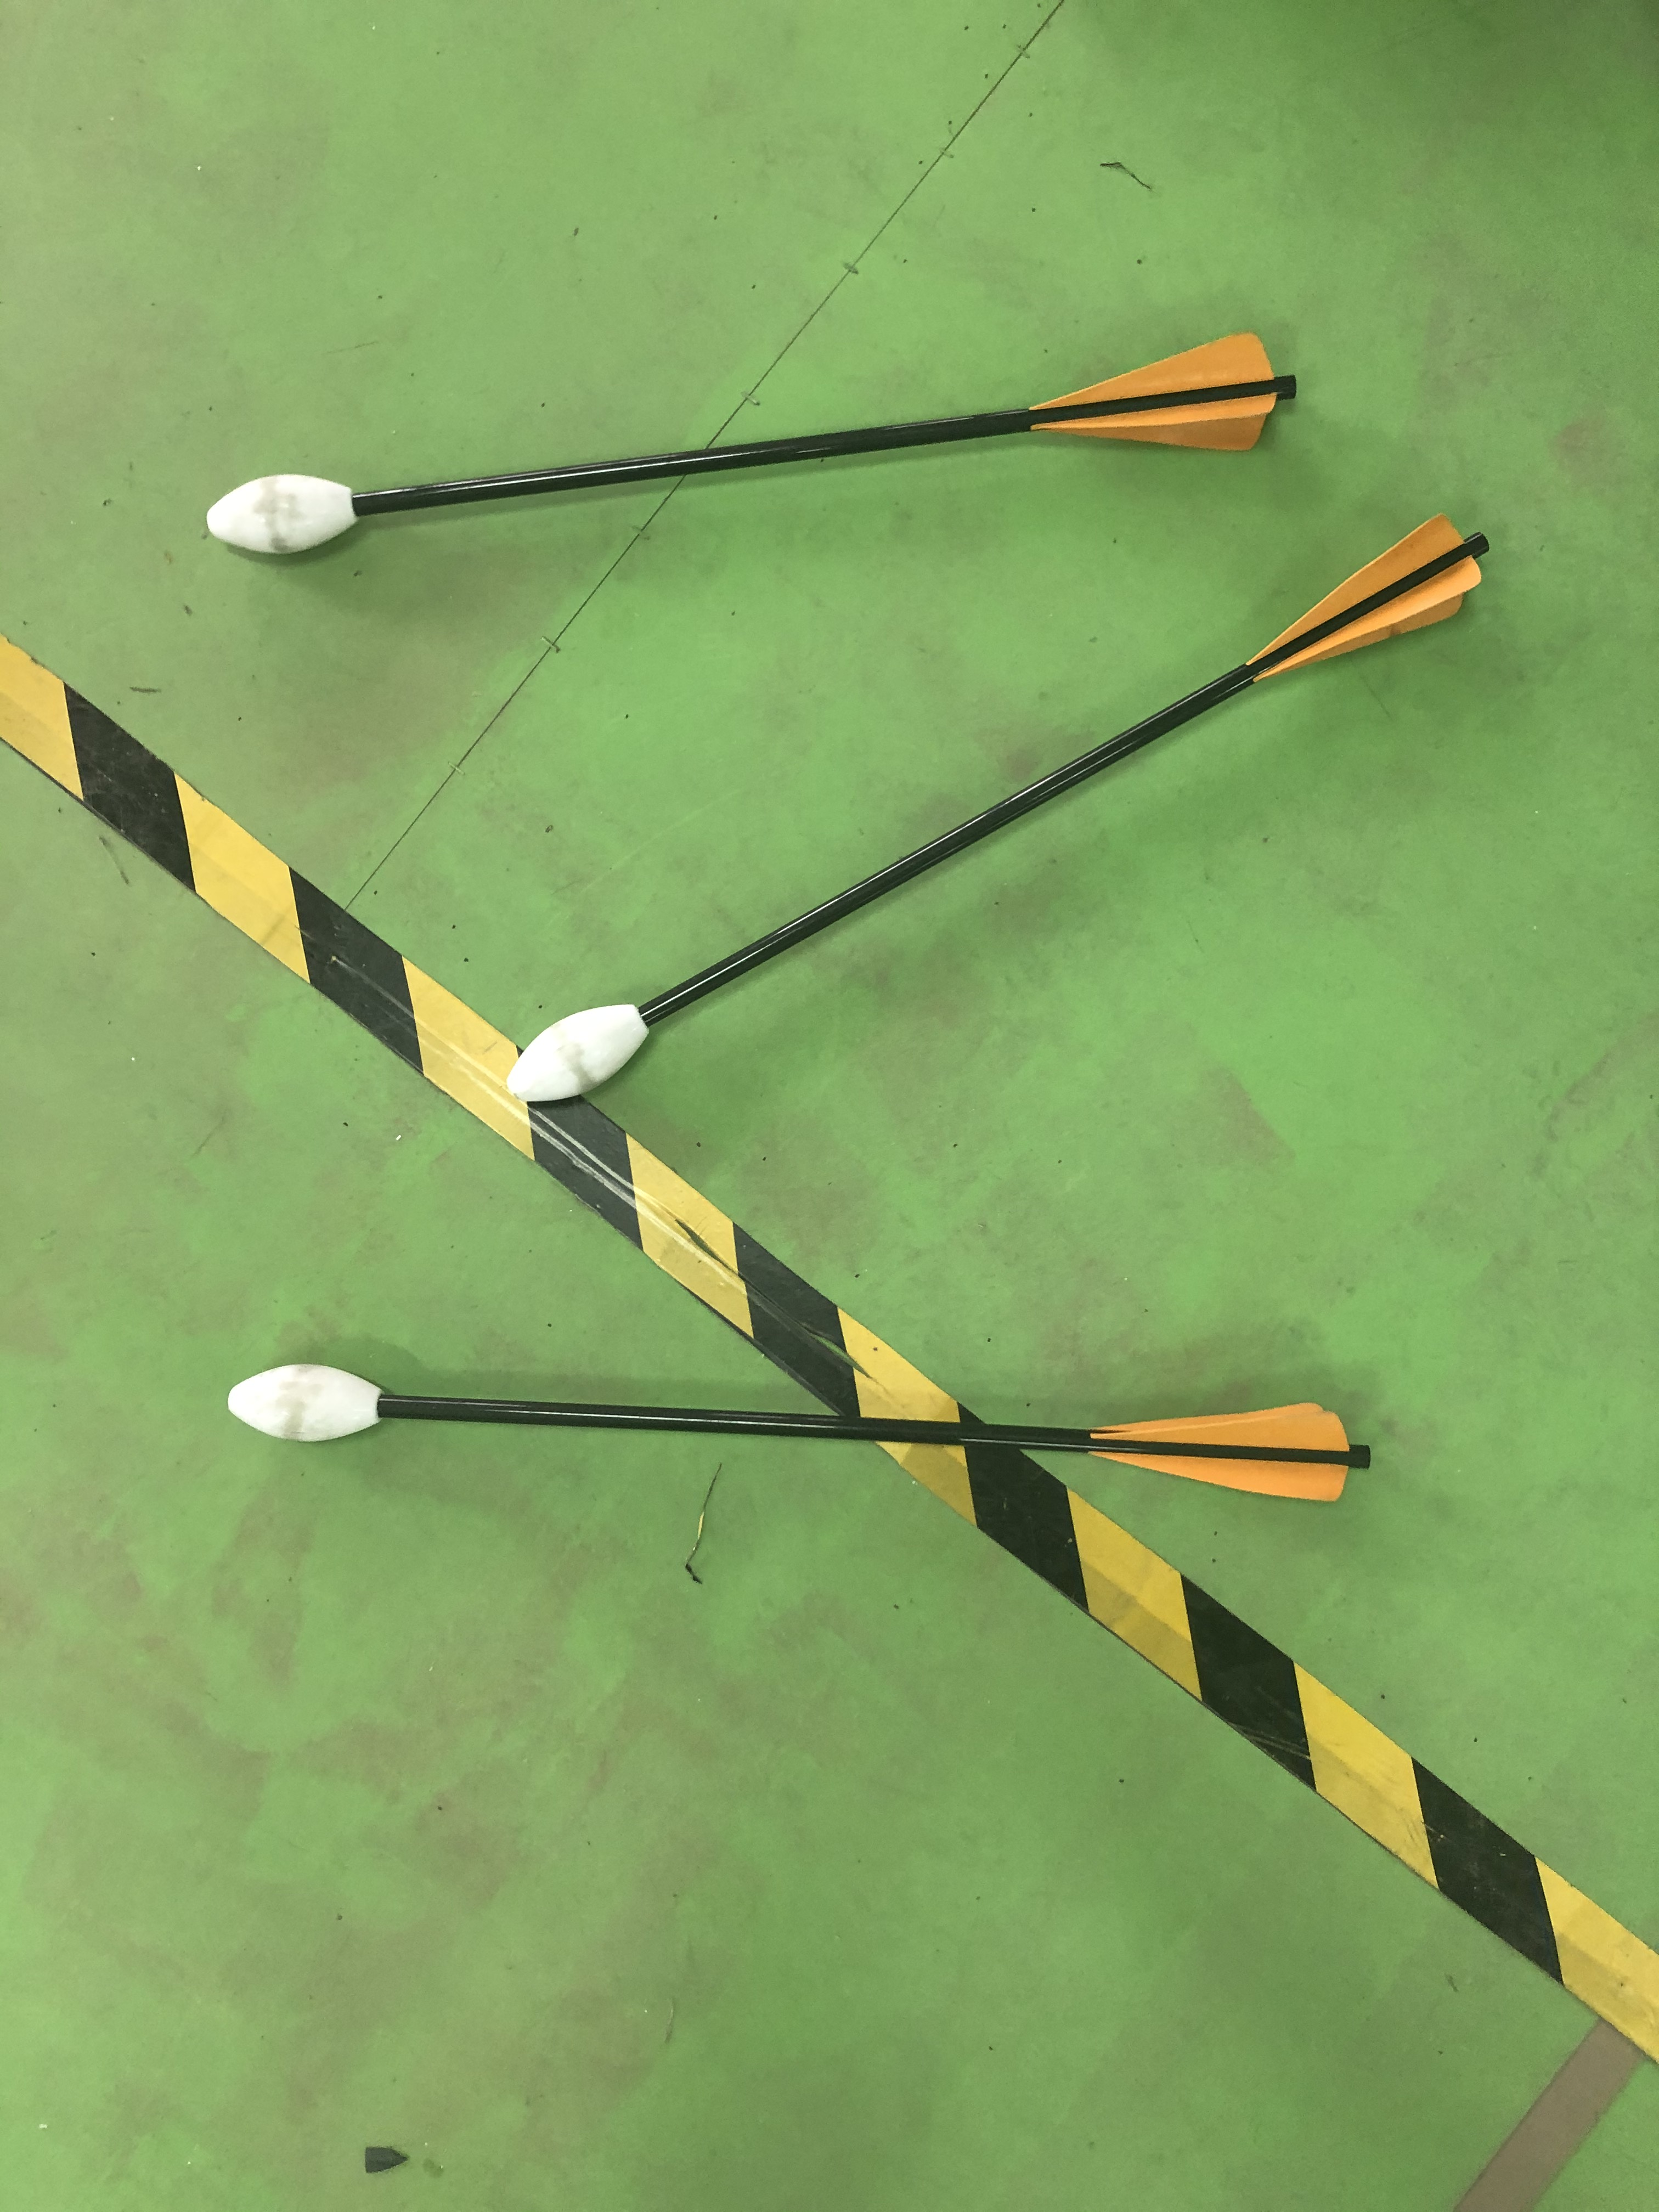arrow: (504, 514, 1493, 1104), (202, 324, 1300, 561), (218, 1357, 1368, 1507)
arrowFront: (197, 469, 361, 561), (509, 1001, 659, 1101), (223, 1359, 387, 1442)
